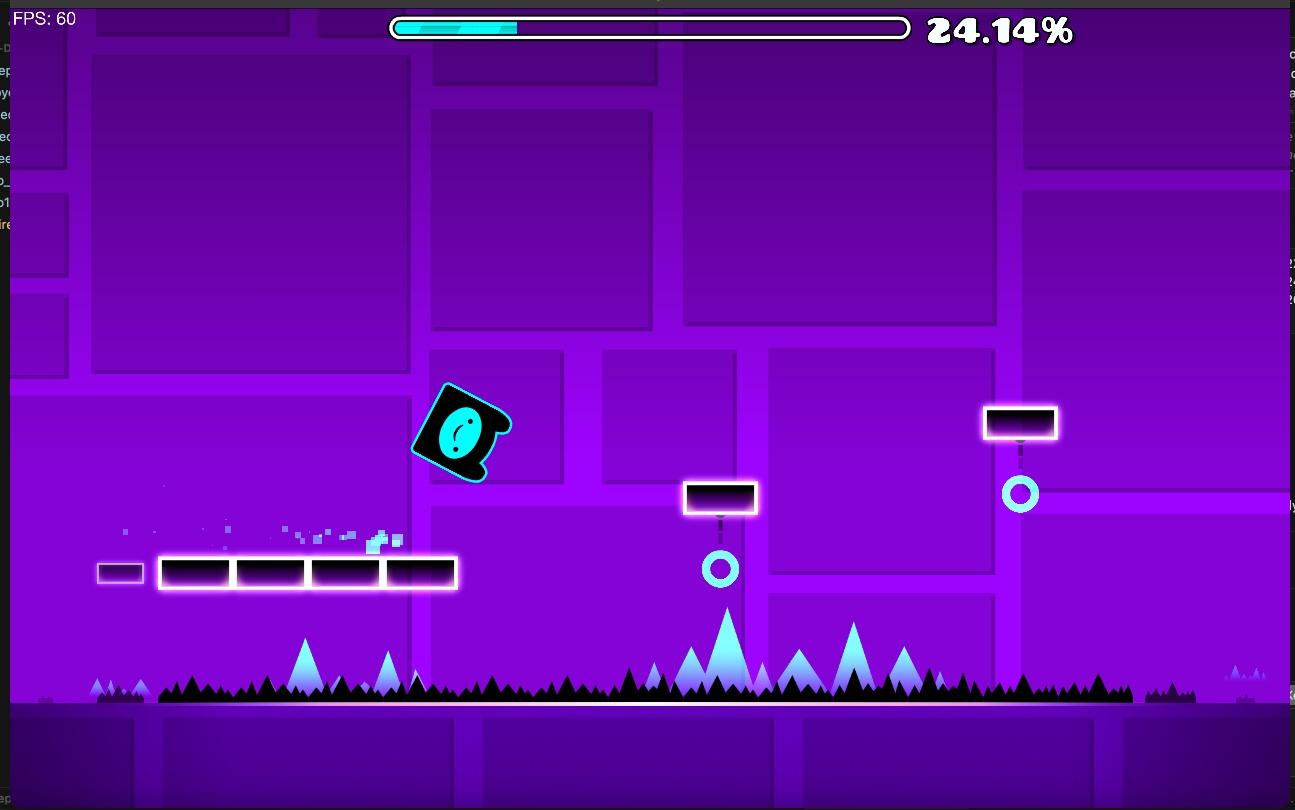platform: (157, 556, 458, 590), (684, 481, 758, 517), (982, 406, 1058, 440), (97, 562, 143, 583)
player: (411, 383, 510, 482)
spike: (90, 612, 1133, 703)
